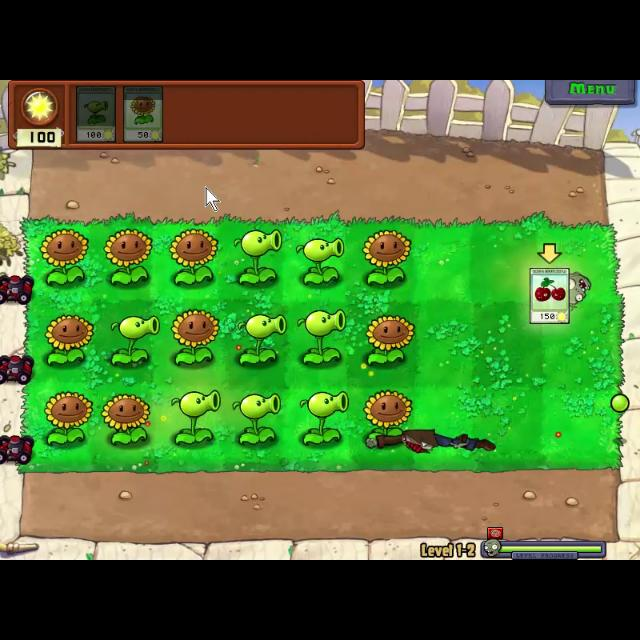Garden: (16, 212, 626, 476)
Menu Button: (545, 80, 635, 106)
Mower: (0, 351, 38, 385), (0, 267, 32, 307), (0, 433, 38, 465)
Peashooter: (74, 84, 118, 142)
Peashooter Seed: (230, 227, 286, 291), (292, 227, 348, 290), (227, 388, 285, 448), (295, 308, 351, 367), (169, 389, 223, 449), (296, 389, 352, 445), (108, 314, 166, 368), (234, 312, 286, 366)
Reward: (528, 262, 574, 326)
Seed Panel: (4, 80, 368, 152)
Sunflower: (123, 81, 165, 142)
Sunflower Seed: (100, 222, 154, 288), (165, 222, 219, 288), (35, 224, 91, 286), (170, 304, 223, 366), (100, 392, 158, 448), (360, 388, 418, 442), (42, 312, 96, 368), (362, 228, 414, 286), (364, 310, 414, 368), (44, 392, 92, 446)
